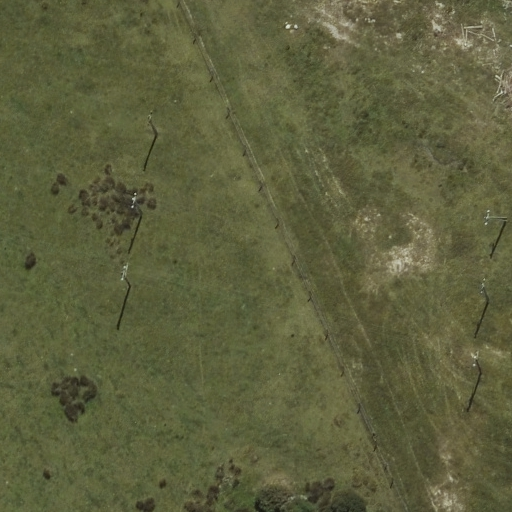DT: (123, 187, 156, 223), (473, 274, 503, 312), (481, 201, 510, 236), (466, 345, 495, 379), (138, 108, 166, 140), (115, 261, 136, 293)
